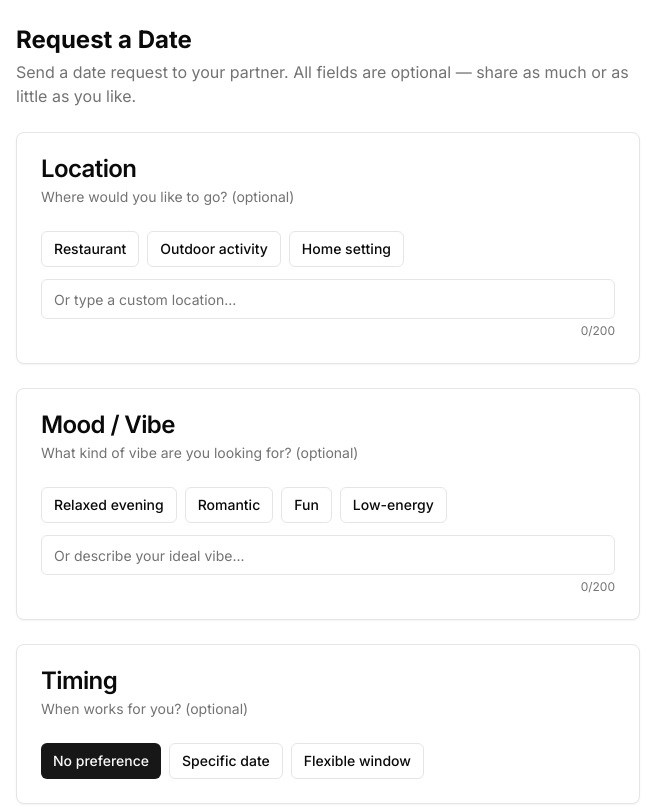
Scenario: DateRequestPage › shows specific date picker when "Specific date" is selected
The width and height of the screenshot is (657, 810).
Click the button with test id "timing-specific". click: coordinates (226, 761)
box: [169,743,283,779]
(page scrolled)
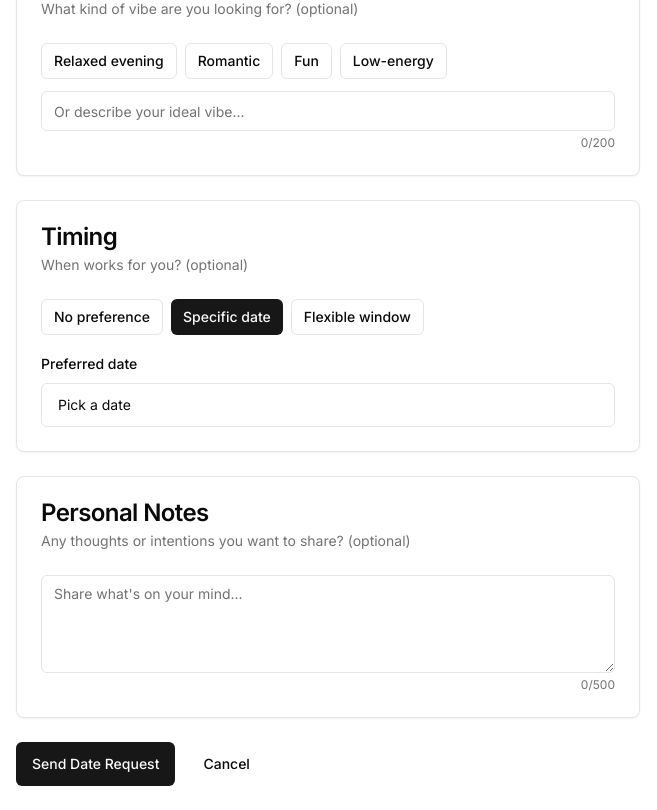
Now the button with test id "preferred-date-trigger" is shown, box [41,383,615,427]
